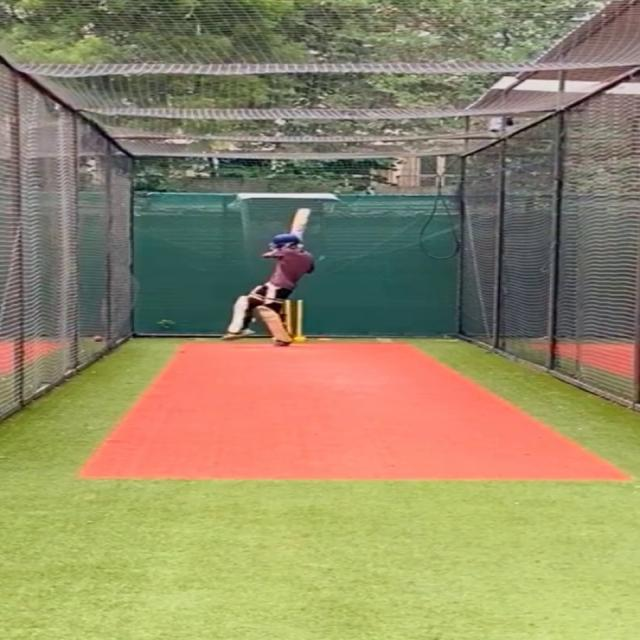stump: (284, 297, 306, 343)
